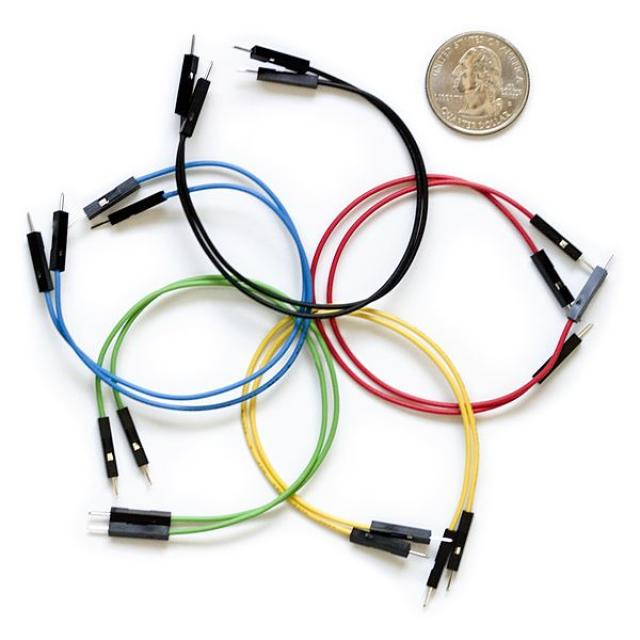Jumper Wires: (6, 4, 630, 617)
